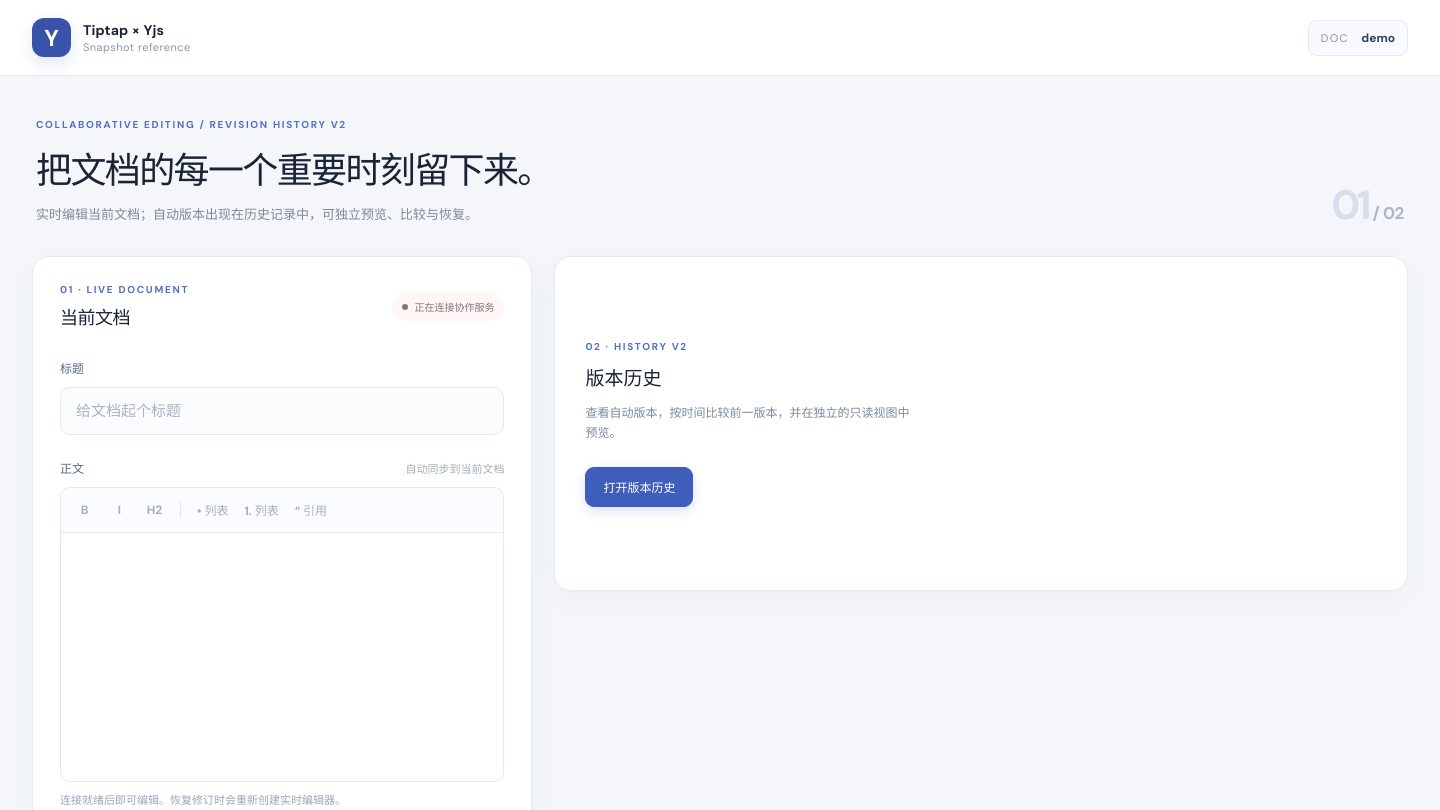
Test case: snapshot UI › uses a generic message when V2 metadata says content cannot be previewed
Click the button "打开版本历史" at (639, 488), box [585,468,693,508]
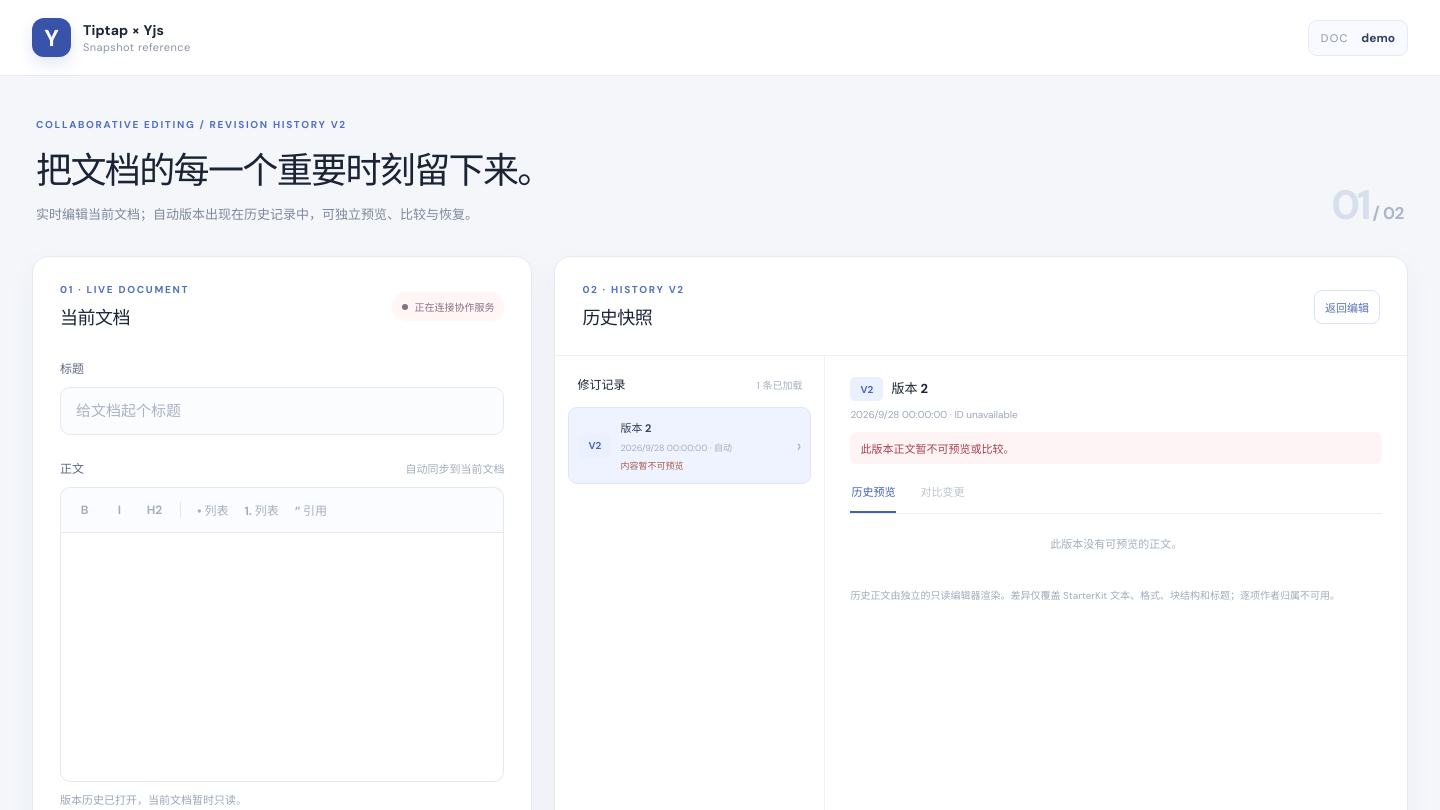
Result: the text "此版本正文暂不可预览或比较。" is shown at [850,432,1382,464]
